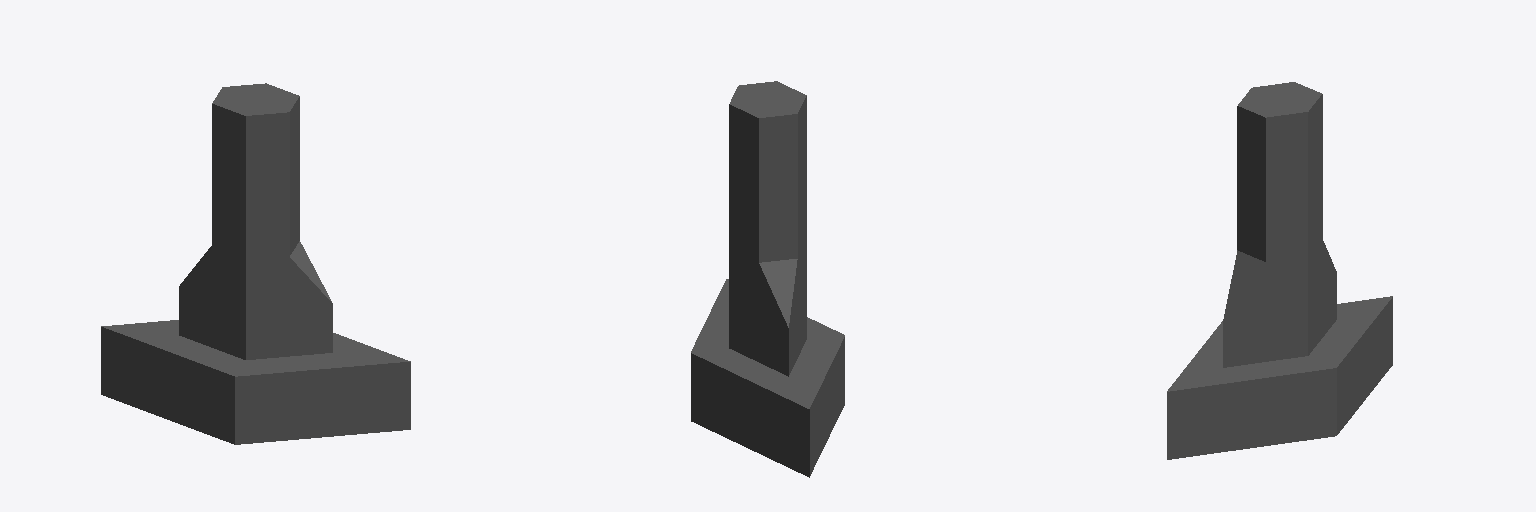
Rendered from IsometricPillar.obj.
The picture shows the model from 3 angles: view 1: azimuth 30°, elevation 25°; view 2: azimuth 150°, elevation 25°; view 3: azimuth 270°, elevation 25°; orthographic projection.
Parts seen in each view (by area): view 1: Cube.002; view 2: Cube.002; view 3: Cube.002.
Part boxes in pixels (left/top/right/bottom): Cube.002: left=101, top=83, right=410, bottom=444; Cube.002: left=691, top=81, right=844, bottom=477; Cube.002: left=1167, top=82, right=1392, bottom=459.
Size of the model in its own units: 2 by 3.04 by 2.